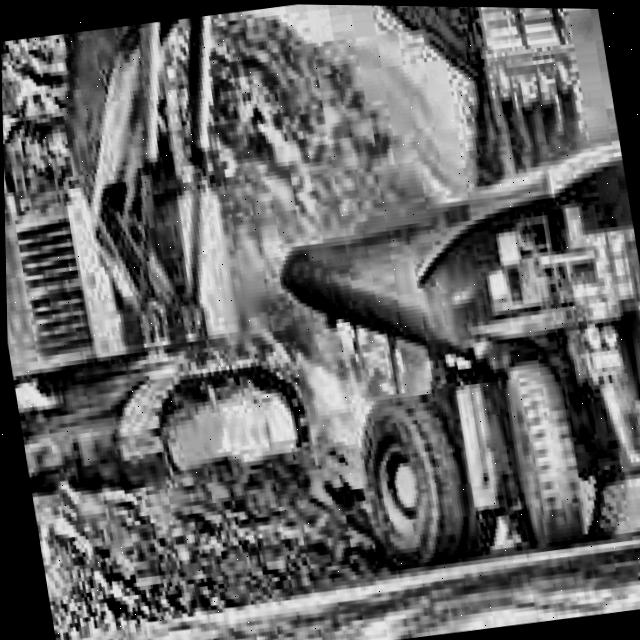dump_truck: (227, 61, 640, 551)
excavator: (0, 0, 640, 640)
